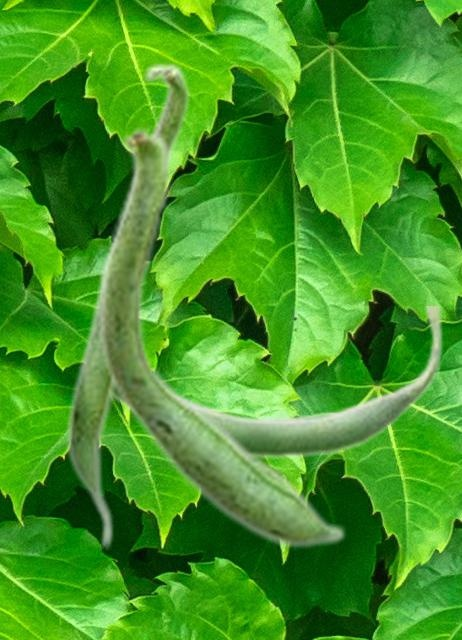french_bean: (97, 123, 346, 549), (65, 61, 190, 551), (114, 306, 443, 460)
